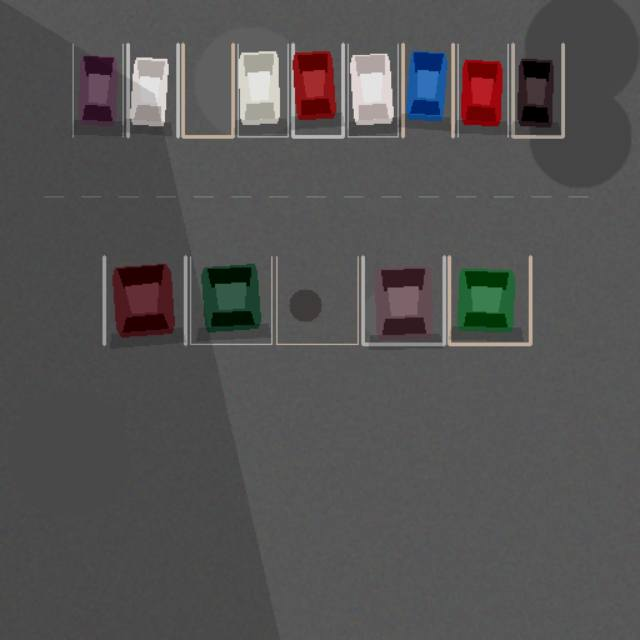space-empty: (276, 256, 357, 344), (183, 44, 233, 136)
space-occupied: (104, 256, 185, 344), (190, 256, 271, 344), (363, 256, 444, 344), (449, 256, 530, 344), (73, 44, 123, 136), (127, 44, 177, 136), (237, 44, 287, 136), (293, 44, 343, 136), (347, 44, 397, 136), (403, 44, 453, 136), (457, 44, 507, 136), (513, 44, 563, 136)
